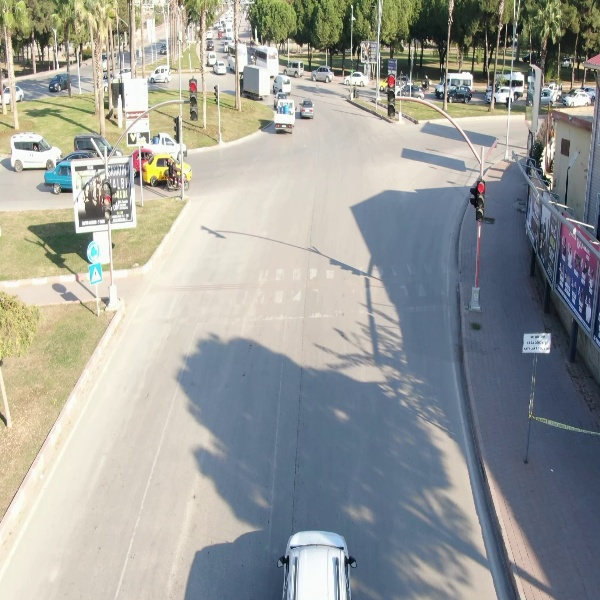car: (9, 133, 62, 177), (442, 84, 476, 104), (562, 88, 595, 108), (148, 63, 173, 87), (309, 63, 336, 85), (48, 71, 72, 95), (340, 71, 370, 90), (296, 97, 317, 121), (283, 59, 306, 77)
